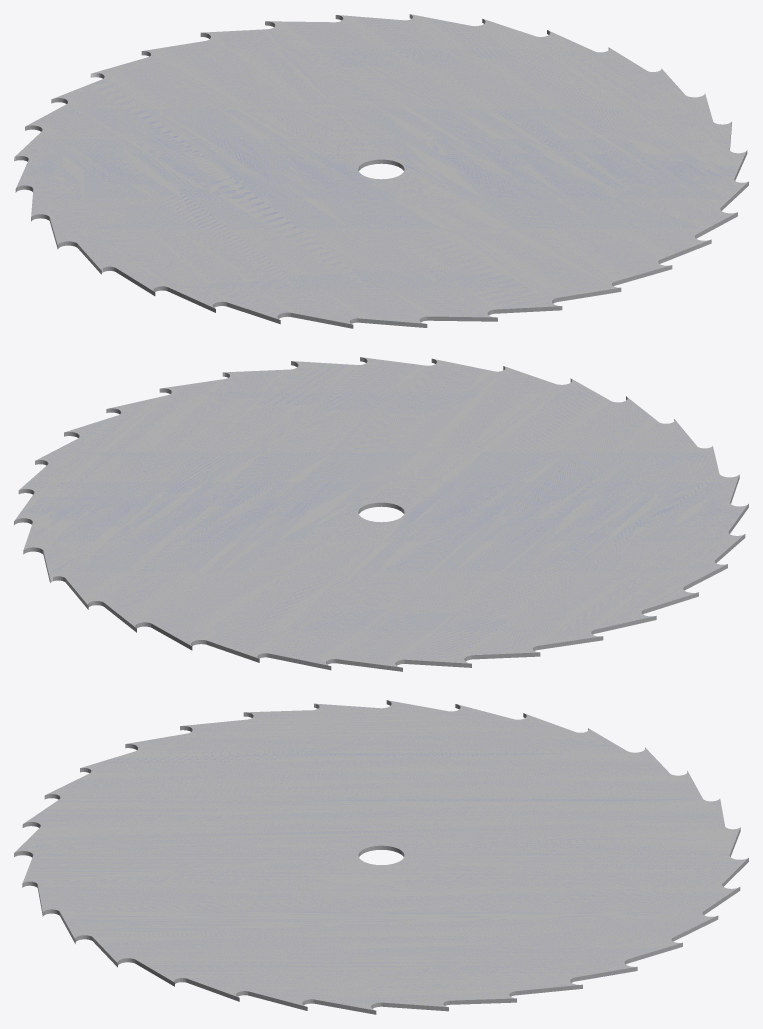
3 views of the same model, one above another, from view 1: azimuth 30°, elevation 25°; view 2: azimuth 150°, elevation 25°; view 3: azimuth 270°, elevation 25° (orthographic).
Visible parts, largest first — view 1: SketchUp; view 2: SketchUp; view 3: SketchUp.
Boxes of the visible parts, <box> form: SketchUp: <box>15,14,748,328</box>; SketchUp: <box>14,357,748,671</box>; SketchUp: <box>14,700,748,1014</box>.
Bounding box in the file's own units: 9.96 × 9.96 × 0.0625.
